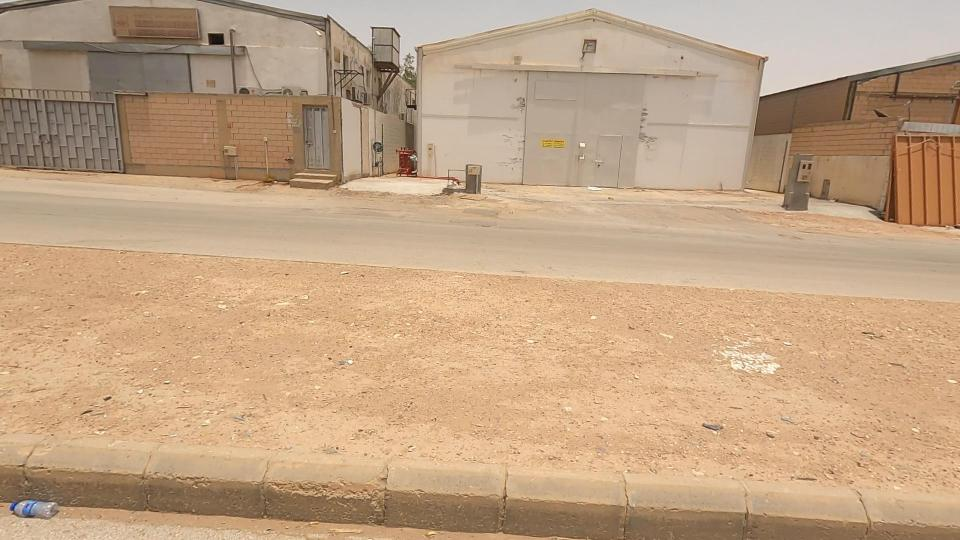CLUTTER_SIDEWALK: (169, 170, 960, 540), (0, 155, 459, 540)
GARBAGE: (0, 453, 102, 540)
